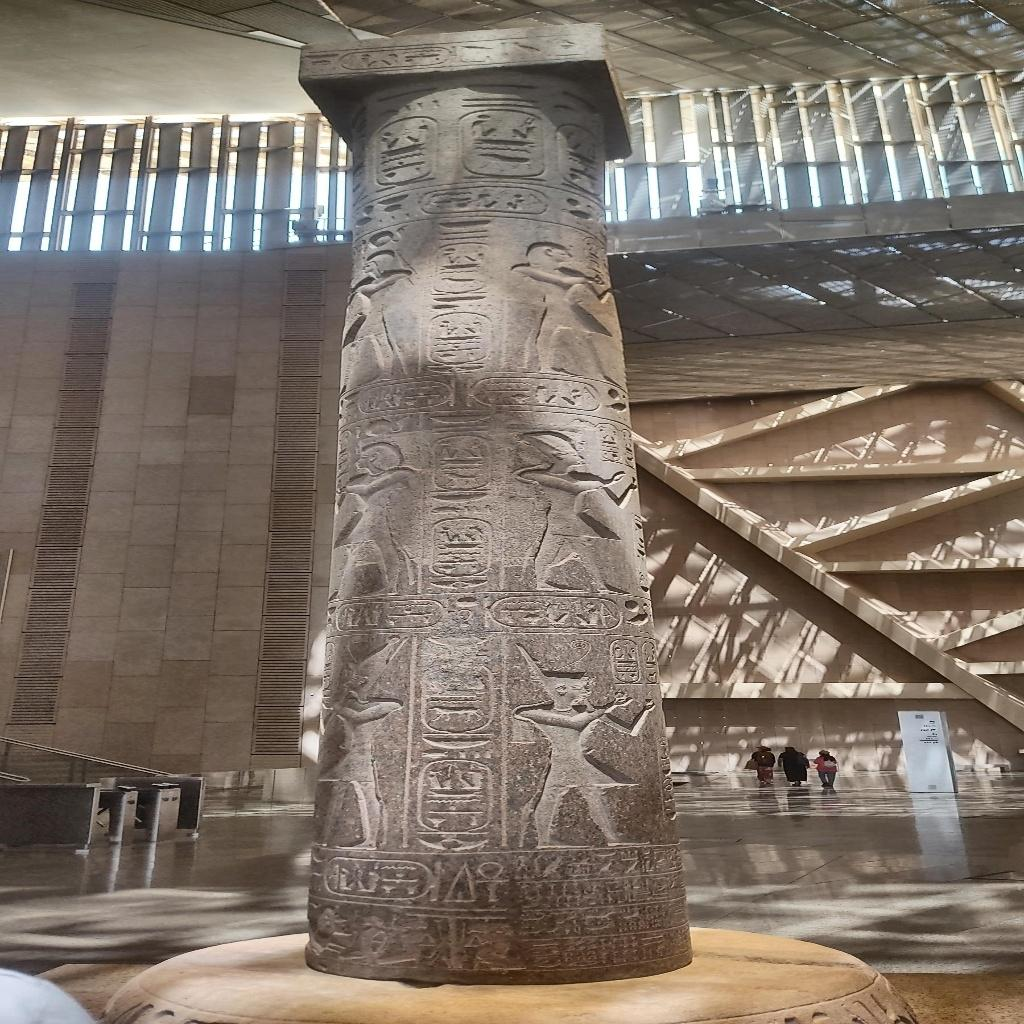Column of Merenptah: (294, 22, 696, 985)
